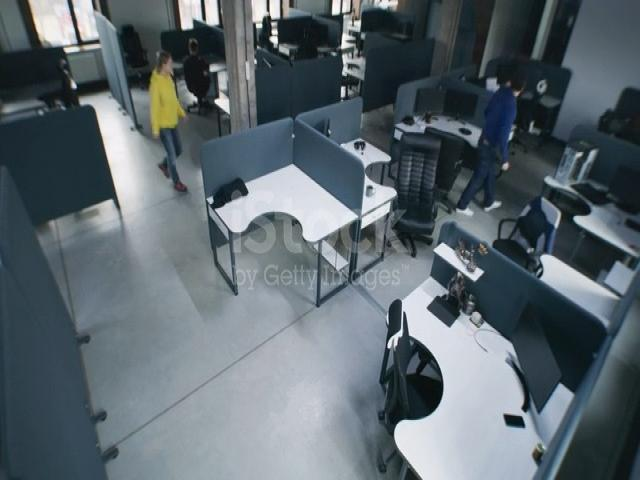empty chair: (358, 271, 445, 460), (387, 131, 454, 261), (34, 44, 104, 134), (482, 190, 564, 266), (425, 117, 473, 226), (106, 11, 153, 86), (332, 58, 366, 97)
occupiedchair: (181, 54, 225, 117), (601, 105, 635, 143), (504, 109, 526, 167)
